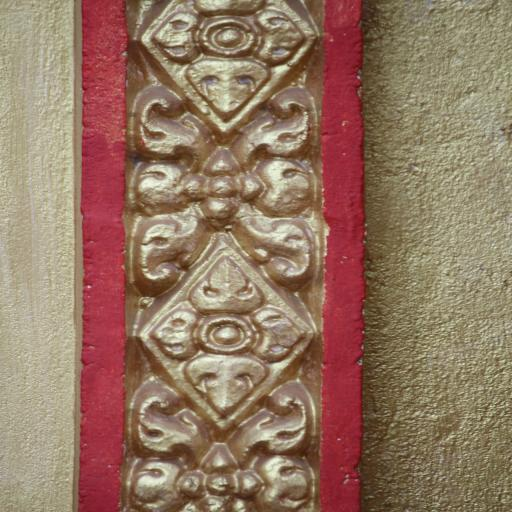hoa: (150, 251, 304, 401), (136, 0, 309, 113)
la: (136, 112, 318, 252), (132, 386, 314, 512)
